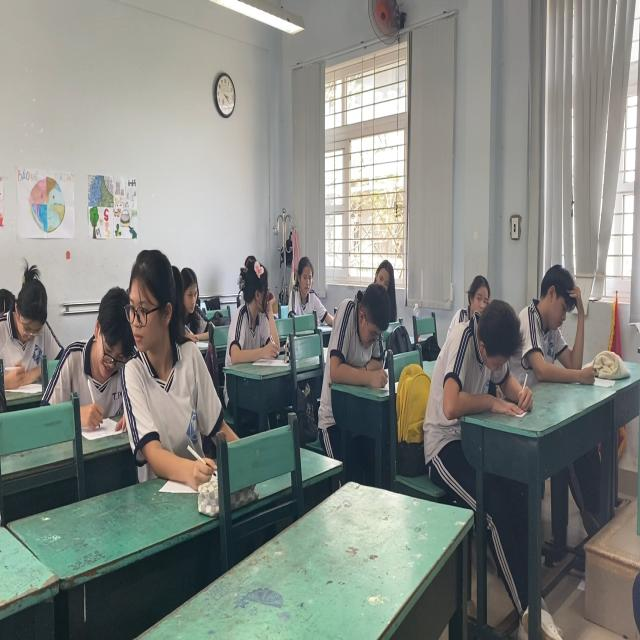cheating: (127, 245, 197, 432), (226, 252, 282, 362)
not_cheating: (520, 245, 613, 400), (440, 273, 523, 404), (0, 258, 68, 373), (70, 290, 132, 404), (325, 280, 388, 380), (290, 252, 326, 332)
